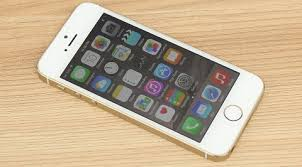iphone: (29, 1, 269, 160)
iphone5: (31, 2, 271, 162)
